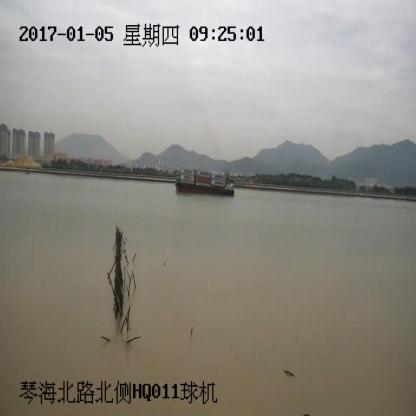Container Ship: (173, 168, 234, 196)
